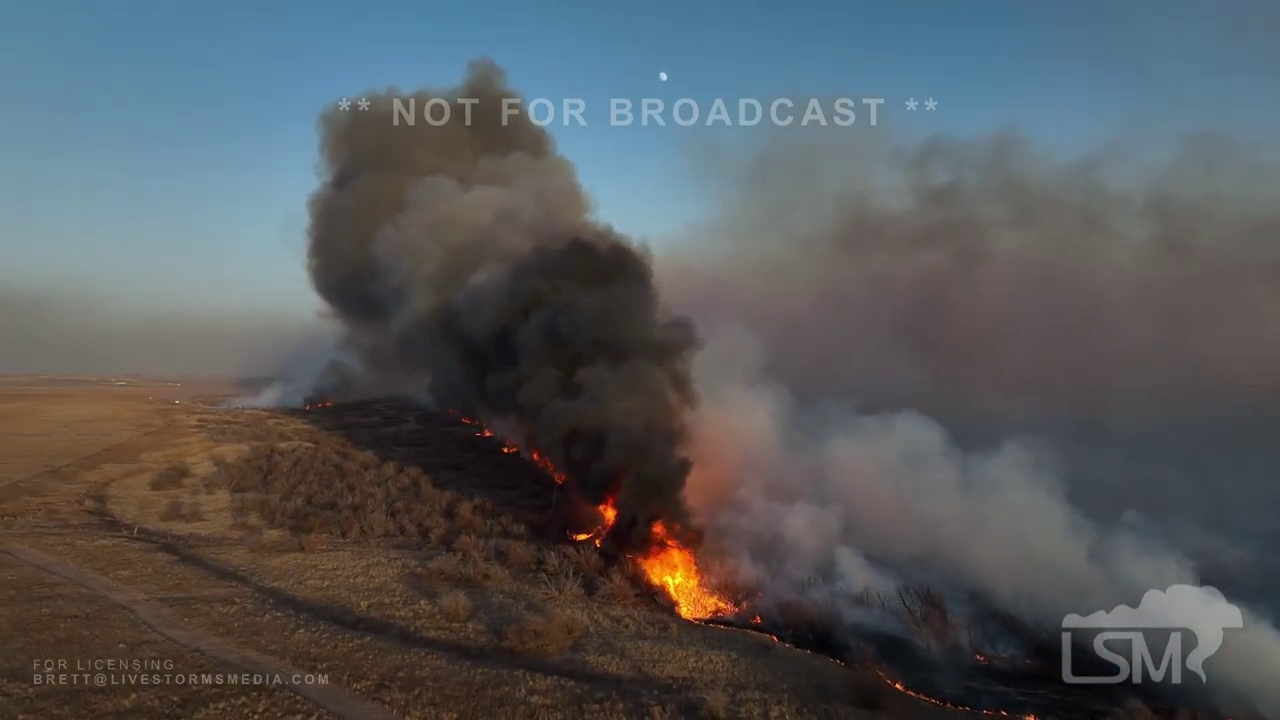forest_fire: (628, 520, 739, 619), (452, 411, 567, 484), (568, 496, 618, 545)
